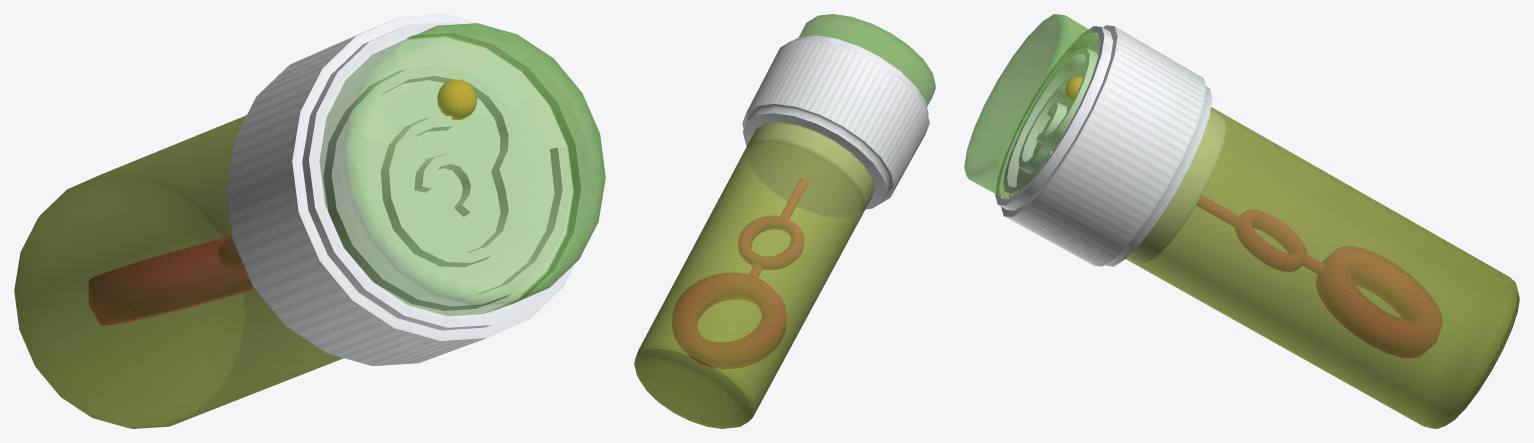
File: ref_gtbubblewater.fbx
3 renders of one model, left to right at view 1: azimuth 30°, elevation 25°; view 2: azimuth 150°, elevation 25°; view 3: azimuth 270°, elevation 25°, orthographic. The views are drawn at different scales.
Parts seen in each view (by area): view 1: ref_gtbubblewater_part1, ref_gtbubblewater_part2, ref_gtbubblewater_part0, ref_gtbubblewater_part3; view 2: ref_gtbubblewater_part1, ref_gtbubblewater_part0, ref_gtbubblewater_part2, ref_gtbubblewater_part3; view 3: ref_gtbubblewater_part1, ref_gtbubblewater_part0, ref_gtbubblewater_part2, ref_gtbubblewater_part3.
Boxes of the visible parts, <box> form: ref_gtbubblewater_part1: <box>14,23,605,428</box>; ref_gtbubblewater_part2: <box>226,14,593,365</box>; ref_gtbubblewater_part0: <box>14,116,343,428</box>; ref_gtbubblewater_part3: <box>89,236,254,325</box>; ref_gtbubblewater_part1: <box>634,14,935,428</box>; ref_gtbubblewater_part0: <box>634,122,874,428</box>; ref_gtbubblewater_part2: <box>742,35,929,218</box>; ref_gtbubblewater_part3: <box>672,178,808,368</box>; ref_gtbubblewater_part1: <box>964,14,1519,428</box>; ref_gtbubblewater_part0: <box>1126,107,1519,428</box>; ref_gtbubblewater_part2: <box>995,25,1226,266</box>; ref_gtbubblewater_part3: <box>1196,195,1442,357</box>.
Size of the model in its own units: 39.67 by 78.82 by 100.
